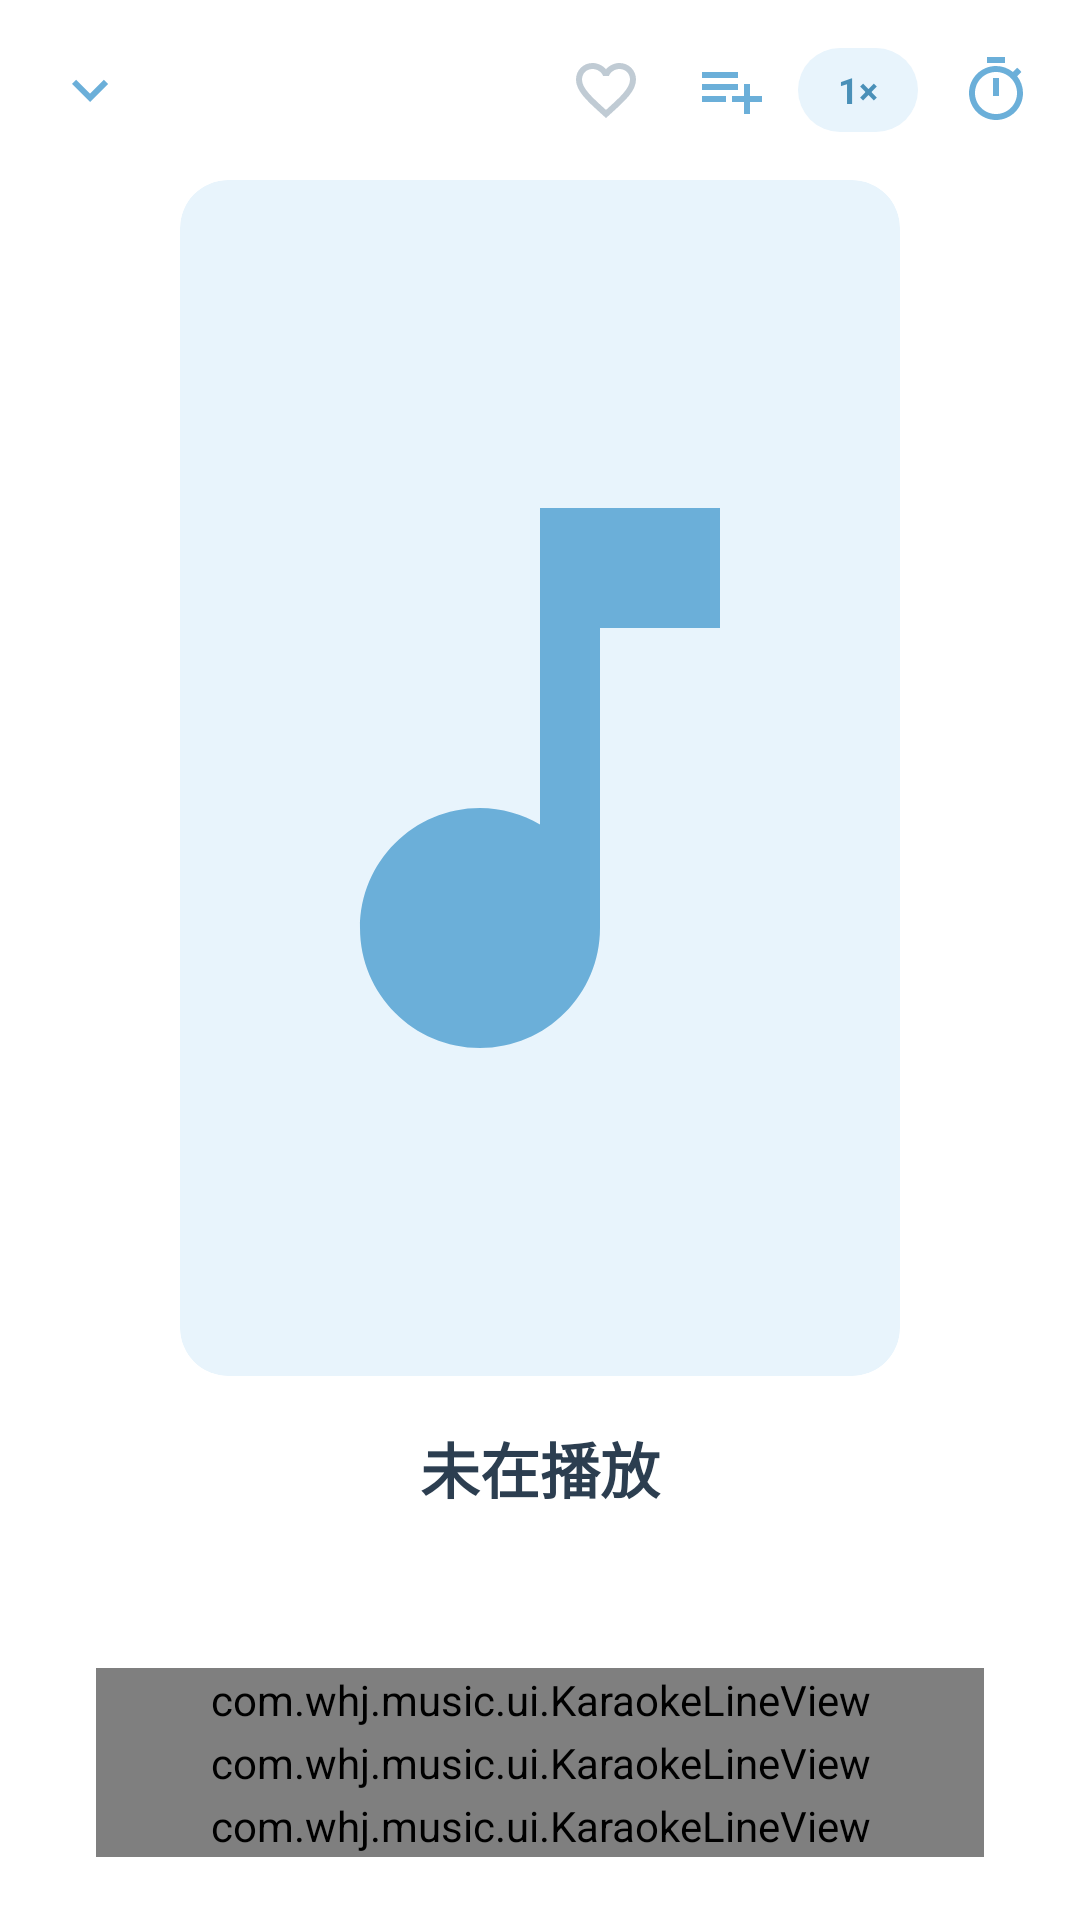

Point at icon controls on the screen. Image size 1080w x 1920h, points as (x,y).
加入列表: (732,93)
定时关闭: (996,88)
收藏: (606,90)
